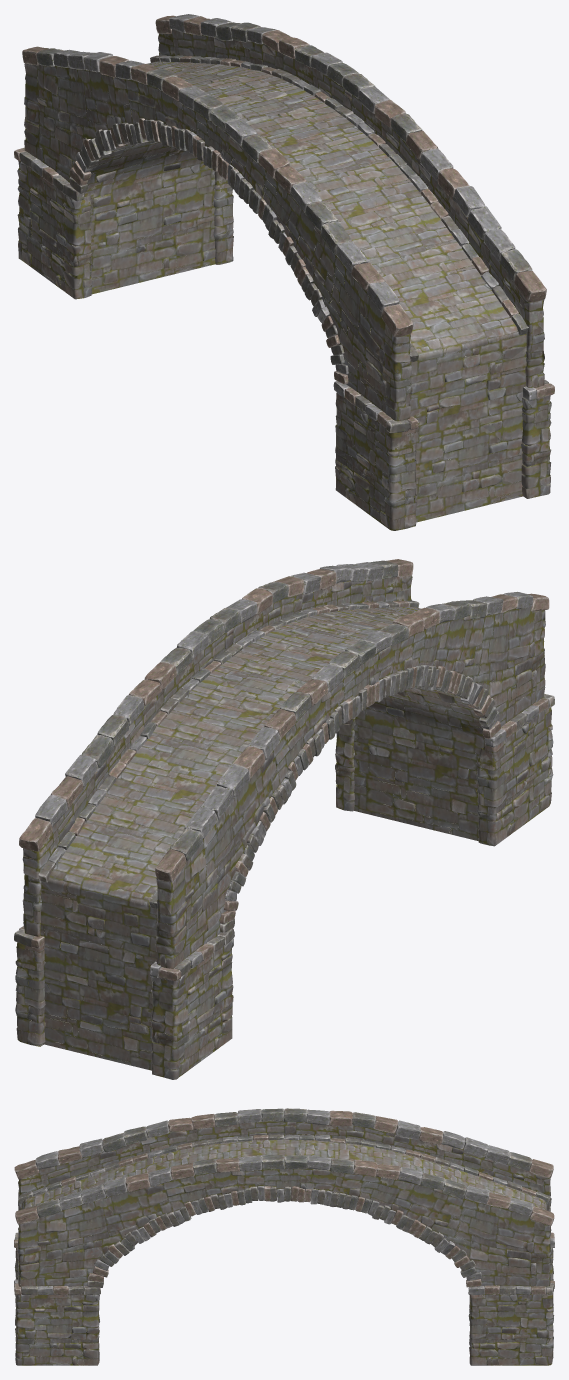
3 renders of one model, top to bottom at view 1: azimuth 30°, elevation 25°; view 2: azimuth 150°, elevation 25°; view 3: azimuth 270°, elevation 25°, orthographic. The views are drawn at different scales.
Visible parts, largest first — view 1: SM_River_Bridge_01_LOD0; view 2: SM_River_Bridge_01_LOD0; view 3: SM_River_Bridge_01_LOD0.
Boxes of the visible parts, <box> form: SM_River_Bridge_01_LOD0: <box>14,14,554,530</box>; SM_River_Bridge_01_LOD0: <box>14,559,554,1079</box>; SM_River_Bridge_01_LOD0: <box>14,1108,554,1365</box>.
Bounding box in the file's own units: 5.57 × 9.26 × 22.17.
2 materials, 2 textured.
